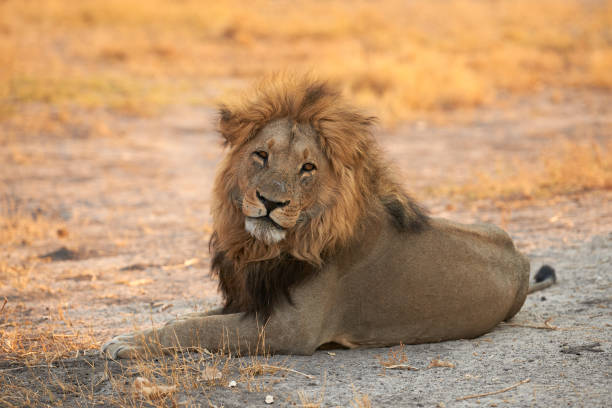lion: (183, 63, 413, 310)
